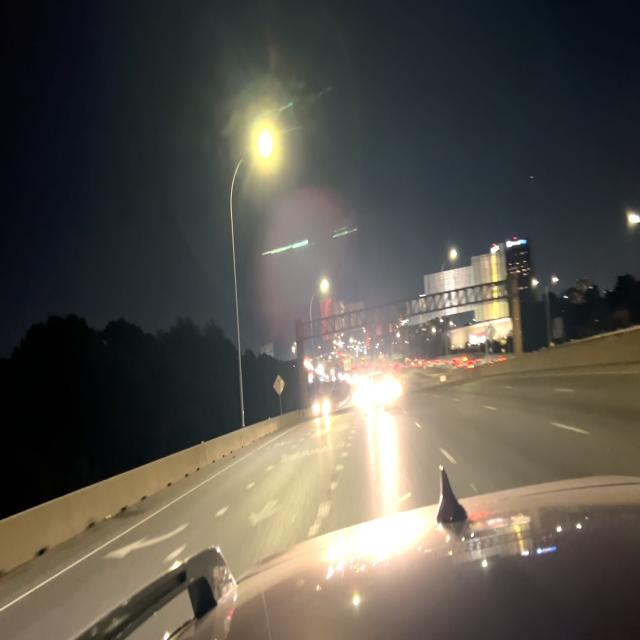back-of-sign: (407, 243, 509, 328), (321, 299, 366, 341), (271, 374, 285, 397)
